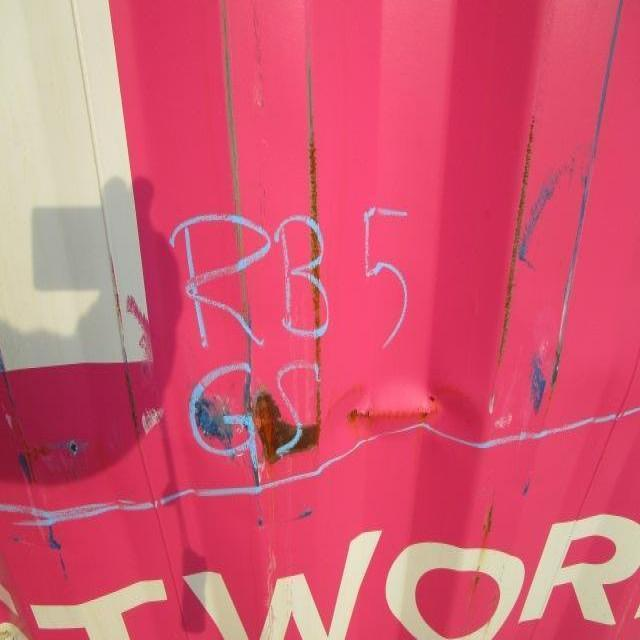dent: (15, 233, 530, 594)
